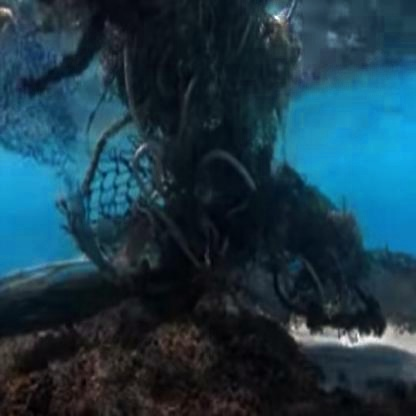net: (80, 13, 314, 292)
